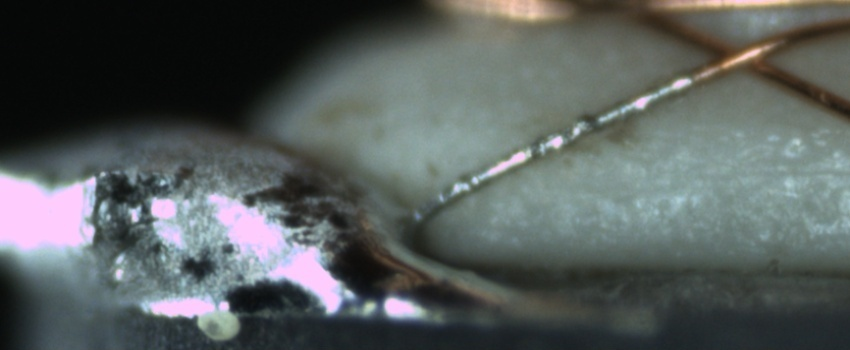CL: (692, 28, 788, 83)
DL: (693, 140, 849, 203)
TS: (412, 75, 696, 222)
TTCW: (420, 58, 730, 224)
